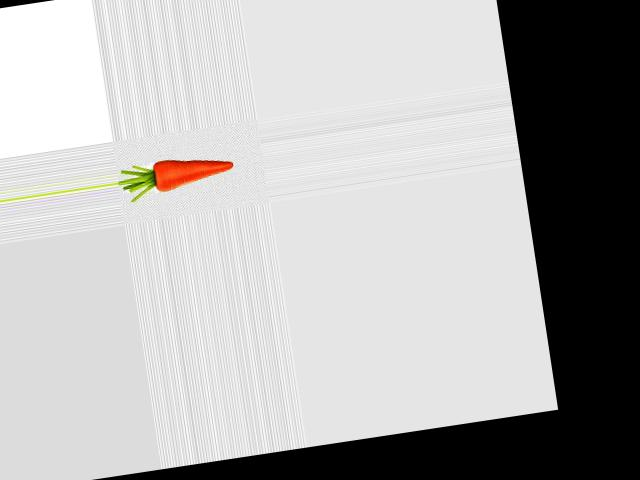carrot: (145, 148, 238, 198)
